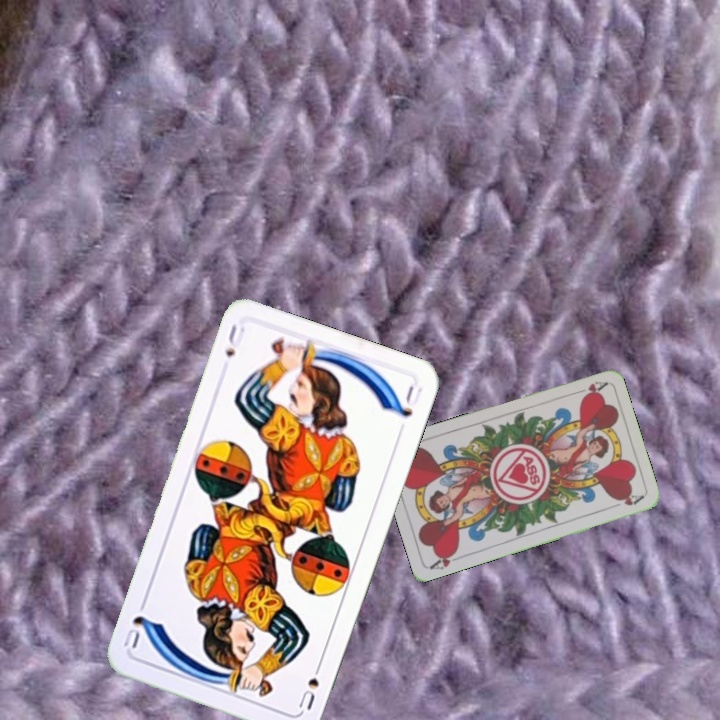HA: (426, 546, 466, 572), (569, 377, 609, 400)
SU: (294, 656, 325, 712), (221, 320, 248, 360)
